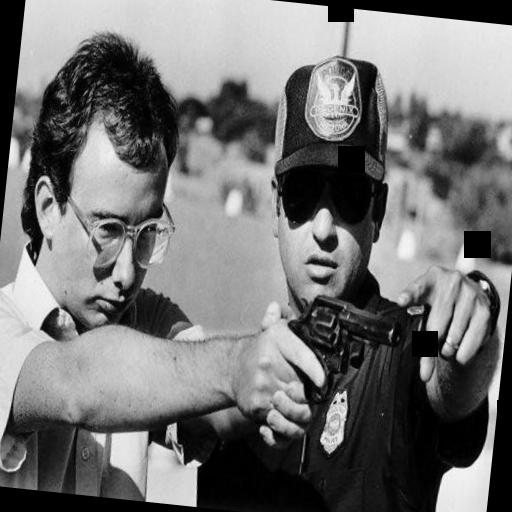Handgun: (272, 284, 404, 417)
